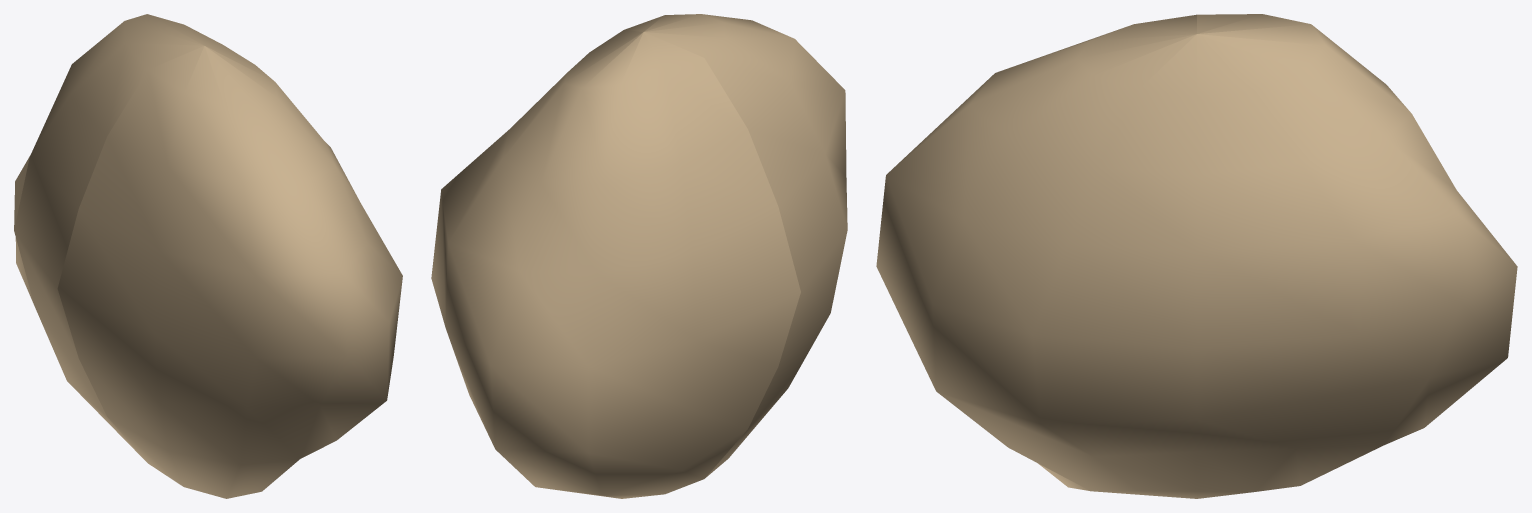
File: left_medial_cuneiform.glb
3 renders of one model, left to right at view 1: azimuth 30°, elevation 25°; view 2: azimuth 150°, elevation 25°; view 3: azimuth 270°, elevation 25°, orthographic. The views are drawn at different scales.
Visible parts, largest first — view 1: left_medial_cuneiform:body; view 2: left_medial_cuneiform:body; view 3: left_medial_cuneiform:body.
Boxes of the visible parts, x1=… form: left_medial_cuneiform:body: x1=14, y1=14, x2=402, y2=498; left_medial_cuneiform:body: x1=431, y1=14, x2=847, y2=498; left_medial_cuneiform:body: x1=876, y1=14, x2=1517, y2=498.
Bounding box in the file's own units: 0.0516 × 0.0688 × 0.086.
